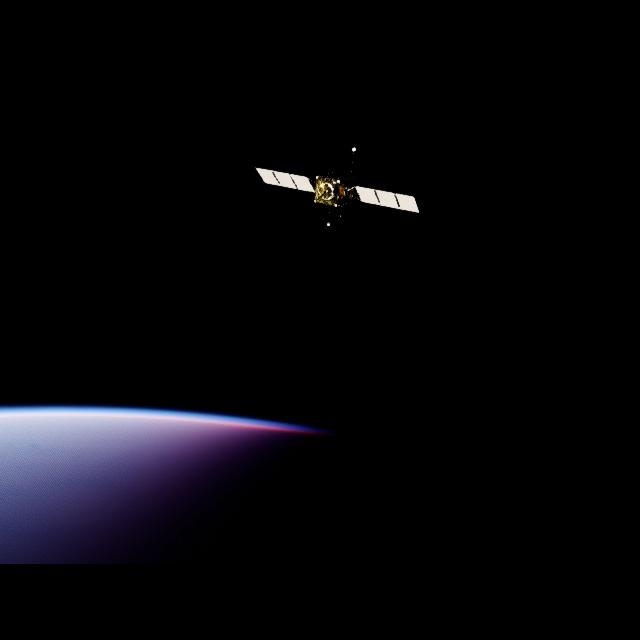medium_debris: (257, 169, 421, 216)
